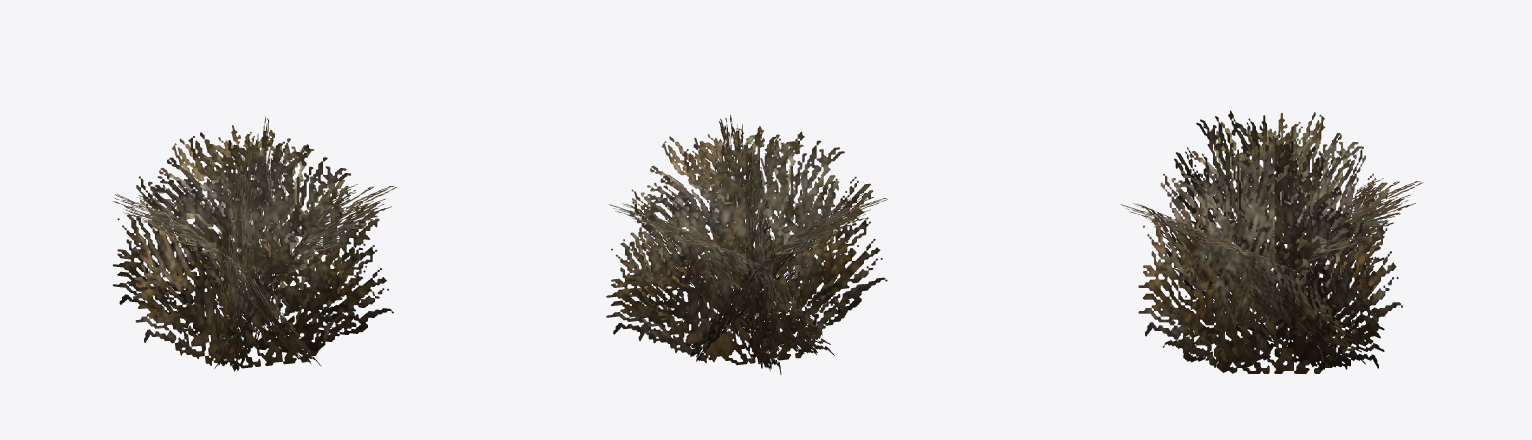
File: scrubby_bush_medium.fbx
3 views of the same model, side by side, from view 1: azimuth 30°, elevation 25°; view 2: azimuth 150°, elevation 25°; view 3: azimuth 270°, elevation 25° (orthographic). The views are drawn at different scales.
Parts seen in each view (by area): view 1: mesh_0; view 2: mesh_0; view 3: mesh_0.
Boxes of the visible parts, x1,y1,x2,y2 form: mesh_0: [112, 116, 396, 371]; mesh_0: [606, 115, 887, 374]; mesh_0: [1120, 110, 1423, 373].
Size of the model in its own units: 178 by 129 by 190.
Materials: 1 (1 with a texture image).
